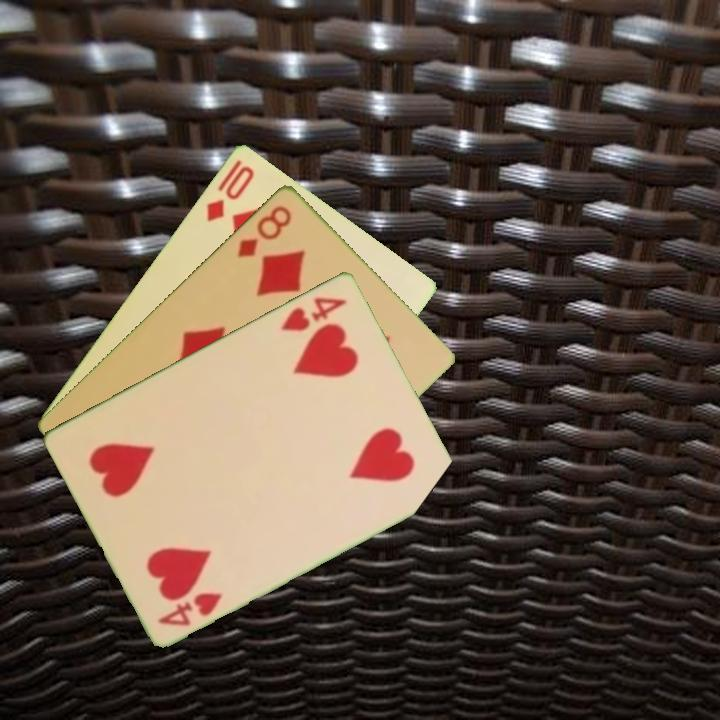10d: (202, 155, 257, 224)
4h: (276, 292, 350, 334), (154, 588, 225, 629)
8d: (233, 201, 295, 260)
